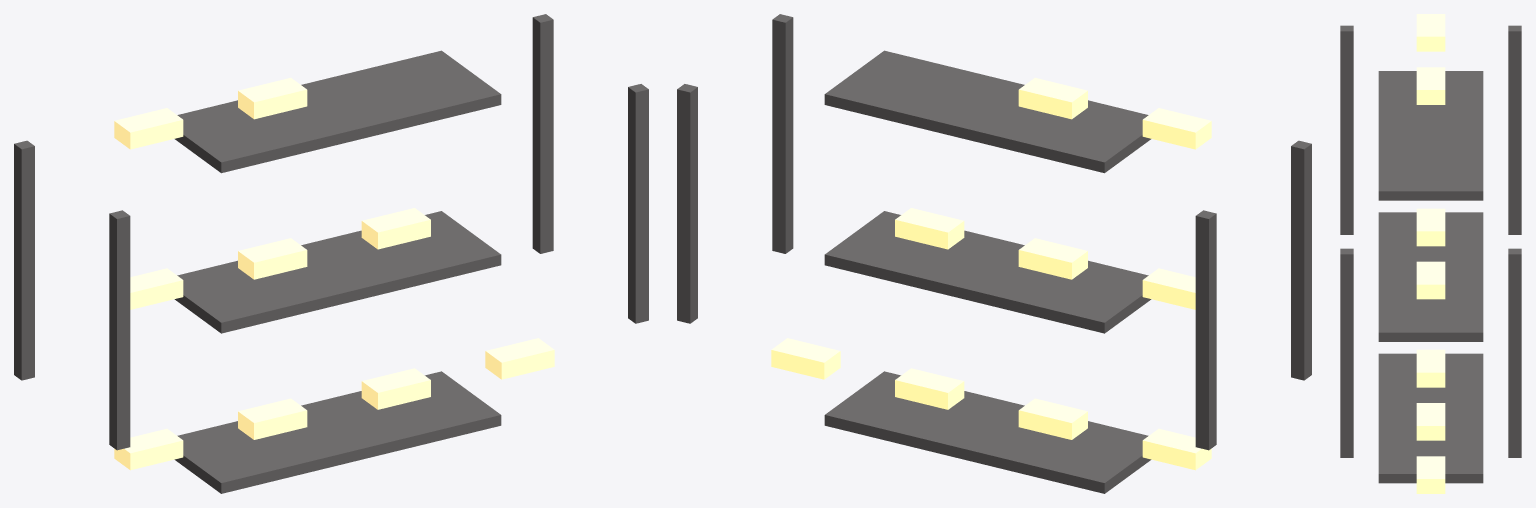
File: ingot_rack.glb
The picture shows the model from 3 angles, left to right: view 1: azimuth 30°, elevation 25°; view 2: azimuth 150°, elevation 25°; view 3: azimuth 270°, elevation 25°; orthographic projection. The views are drawn at different scales.
Visible parts, largest first — view 1: Shelf@1.14, Shelf@0.62, Shelf@0.10, Post-1-1, Post+1+1, Post-1+1, Post+1-1, Ingot0_1, Ingot1_2, Ingot0_2, Ingot0_3, Ingot1_1 (+4 smaller); view 2: Shelf@1.14, Shelf@0.62, Shelf@0.10, Post-1+1, Post+1-1, Post-1-1, Post+1+1, Ingot0_1, Ingot1_2, Ingot0_2, Ingot0_3, Ingot1_1 (+4 smaller); view 3: Shelf@1.14, Shelf@0.62, Shelf@0.10, Post-1-1, Post-1+1, Post+1-1, Post+1+1, Ingot0_1, Ingot1_1, Ingot1_2, Ingot0_2, Ingot0_3 (+2 smaller).
Boxes of the visible parts, x1=… form: Shelf@1.14: x1=175, y1=50, x2=501, y2=173; Shelf@0.62: x1=174, y1=211, x2=501, y2=333; Shelf@0.10: x1=174, y1=371, x2=501, y2=493; Post-1-1: x1=109, y1=210, x2=130, y2=450; Post+1+1: x1=532, y1=14, x2=553, y2=253; Post-1+1: x1=14, y1=140, x2=34, y2=380; Post+1-1: x1=628, y1=84, x2=648, y2=323; Ingot0_1: x1=238, y1=398, x2=307, y2=439; Ingot1_2: x1=361, y1=208, x2=430, y2=249; Ingot0_2: x1=361, y1=368, x2=430, y2=409; Ingot0_3: x1=485, y1=338, x2=554, y2=379; Ingot1_1: x1=238, y1=238, x2=307, y2=279; Shelf@1.14: x1=824, y1=50, x2=1150, y2=173; Shelf@0.62: x1=824, y1=211, x2=1151, y2=333; Shelf@0.10: x1=824, y1=371, x2=1151, y2=493; Post-1+1: x1=1195, y1=210, x2=1216, y2=450; Post+1-1: x1=772, y1=14, x2=793, y2=253; Post-1-1: x1=1291, y1=140, x2=1311, y2=380; Post+1+1: x1=677, y1=84, x2=697, y2=323; Ingot0_1: x1=1018, y1=398, x2=1087, y2=439; Ingot1_2: x1=895, y1=208, x2=964, y2=249; Ingot0_2: x1=895, y1=368, x2=964, y2=409; Ingot0_3: x1=771, y1=338, x2=840, y2=379; Ingot1_1: x1=1018, y1=238, x2=1087, y2=279; Shelf@1.14: x1=1378, y1=71, x2=1483, y2=200; Shelf@0.62: x1=1378, y1=212, x2=1483, y2=341; Shelf@0.10: x1=1378, y1=353, x2=1483, y2=483; Post-1-1: x1=1340, y1=25, x2=1353, y2=234; Post-1+1: x1=1508, y1=25, x2=1521, y2=234; Post+1-1: x1=1340, y1=248, x2=1353, y2=457; Post+1+1: x1=1508, y1=248, x2=1521, y2=457; Ingot0_1: x1=1416, y1=349, x2=1445, y2=387; Ingot1_1: x1=1416, y1=208, x2=1445, y2=246; Ingot1_2: x1=1416, y1=261, x2=1445, y2=299; Ingot0_2: x1=1416, y1=403, x2=1445, y2=440; Ingot0_3: x1=1416, y1=456, x2=1445, y2=493.
Size of the model in its own units: 1.8 by 1.18 by 0.605.
